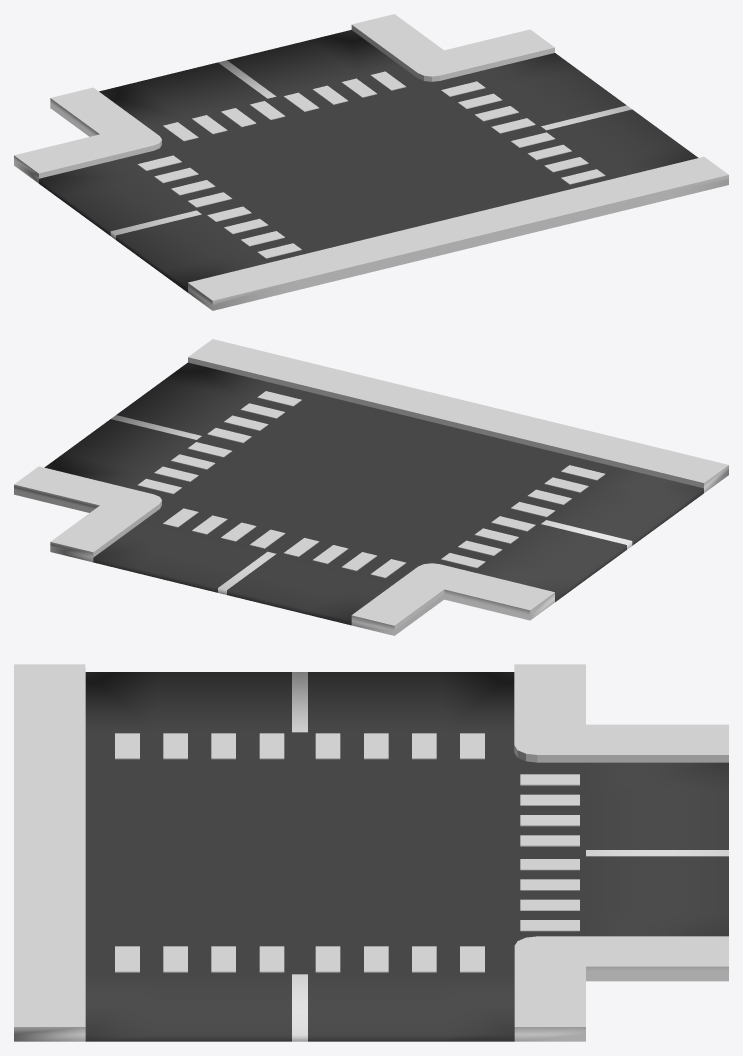
The model's file is two-lane-T-junction-edited.fbx.
3 renders of one model, top to bottom at view 1: azimuth 30°, elevation 25°; view 2: azimuth 150°, elevation 25°; view 3: azimuth 270°, elevation 25°, orthographic. The views are drawn at different scales.
Parts seen in each view (by area): view 1: two-lane-T-junction-; view 2: two-lane-T-junction-; view 3: two-lane-T-junction-.
Part boxes in pixels (left/top/right/bottom): two-lane-T-junction-: left=14, top=14, right=728, bottom=310; two-lane-T-junction-: left=14, top=339, right=728, bottom=635; two-lane-T-junction-: left=14, top=664, right=728, bottom=1041.
Bounding box in the file's own units: 168157 × 3165 × 140131.
